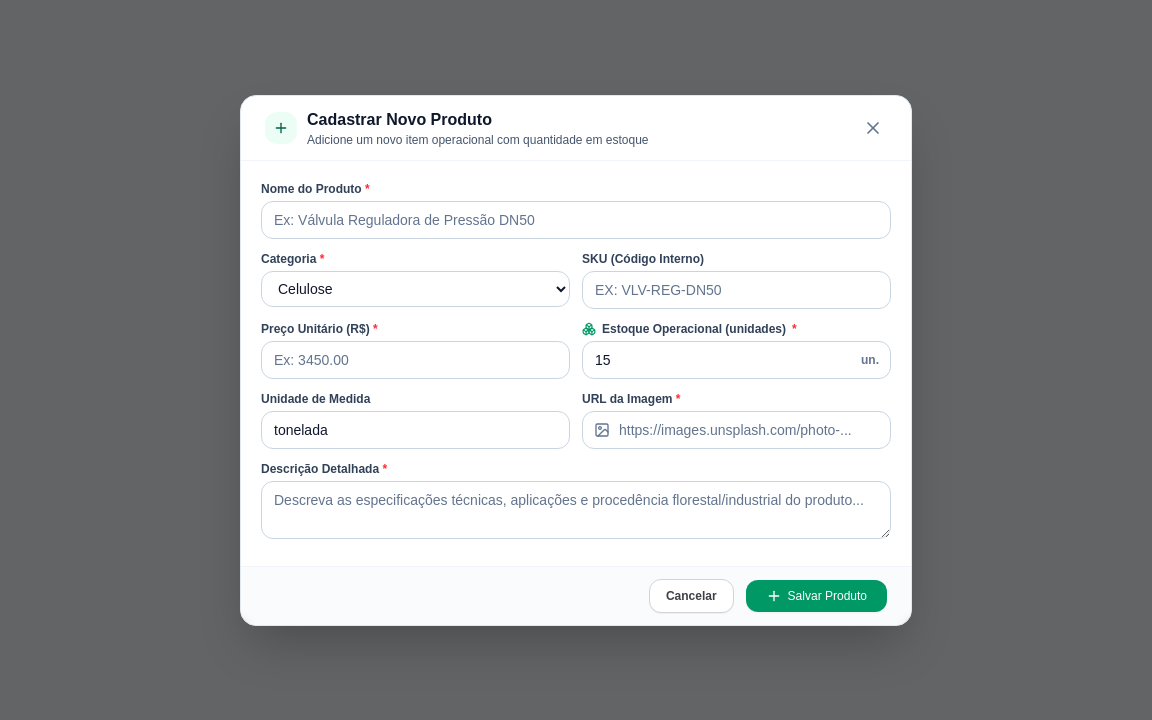
ProductFormModal Component › deve disparar erros de validação Zod ao tentar submeter o formulário em branco
This screenshot has width=1152, height=720.
Step 1. Click the button "Salvar Produto" → (816,596), box [746,580,887,612]
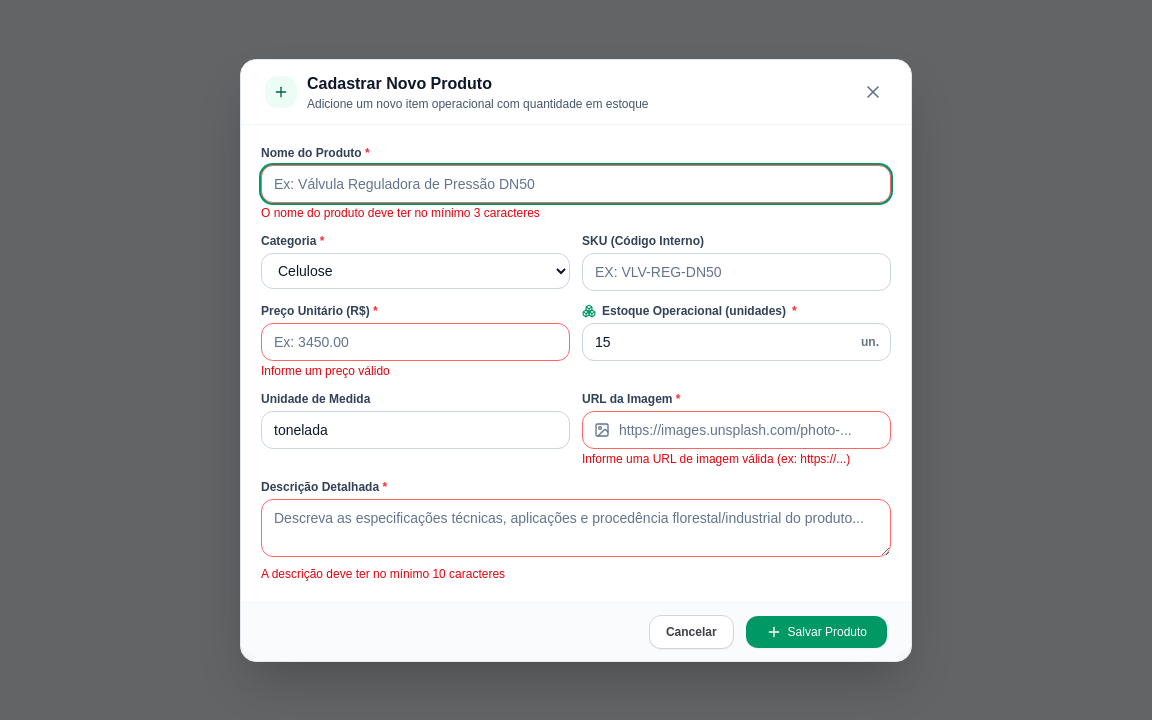
Expected: the text "O nome do produto deve ter no mínimo 3 caracteres" is shown, [261,206,540,220]
Expected: the text "Informe um preço válido" is shown, [261,364,390,378]
Expected: the text "Informe uma URL de imagem válida (ex: https://...)" is shown, [582,450,891,466]
